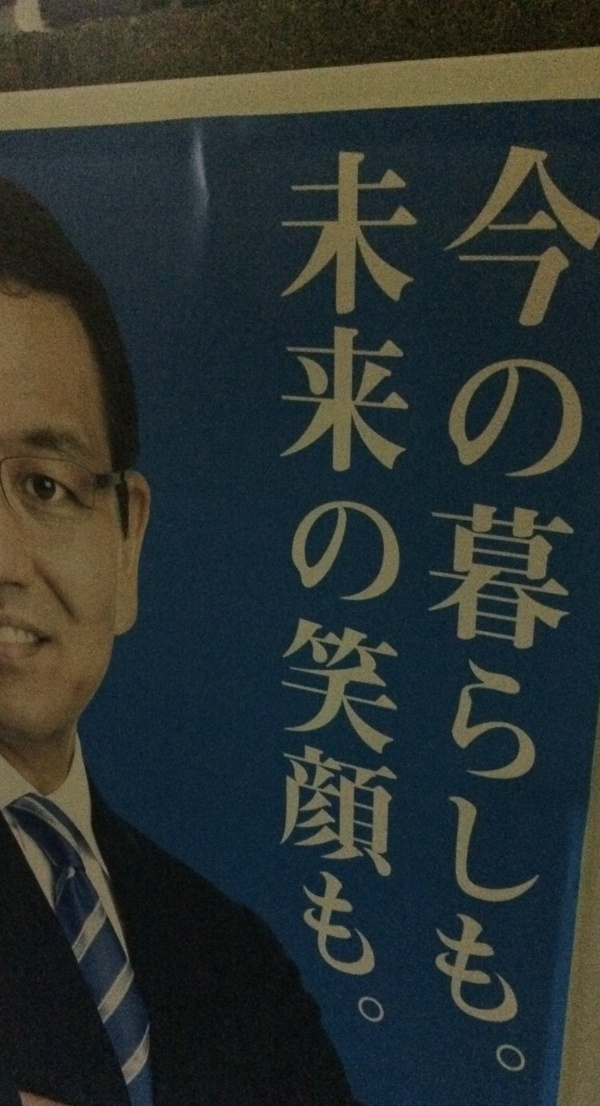text: (449, 125, 464, 1079), (465, 125, 480, 1079), (481, 125, 496, 1079), (497, 125, 512, 1079), (513, 125, 528, 1079), (529, 125, 544, 1079), (545, 125, 560, 1079), (561, 125, 576, 1079), (577, 125, 592, 1079), (289, 147, 304, 1028), (305, 147, 320, 1028), (321, 147, 336, 1028), (337, 147, 352, 1028), (353, 147, 368, 1028), (369, 147, 384, 1028), (385, 147, 400, 1028), (401, 147, 416, 1028), (593, 125, 600, 1079), (283, 147, 288, 1028), (417, 147, 420, 1028)
